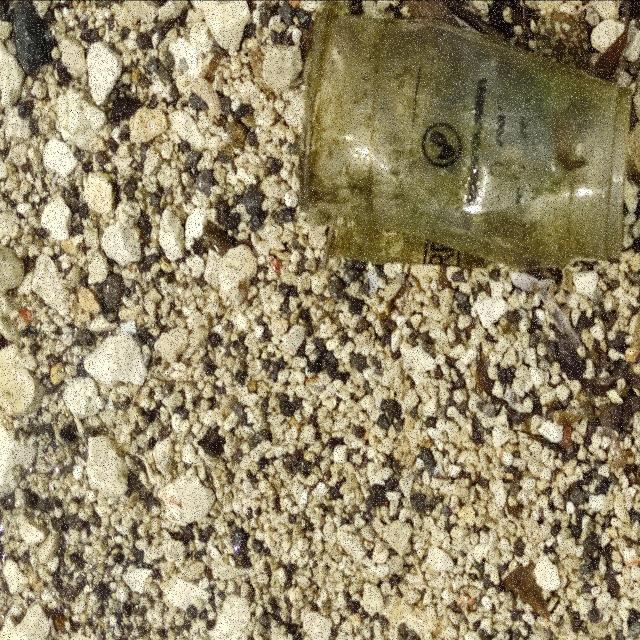plastic_waste: (296, 1, 634, 266)
